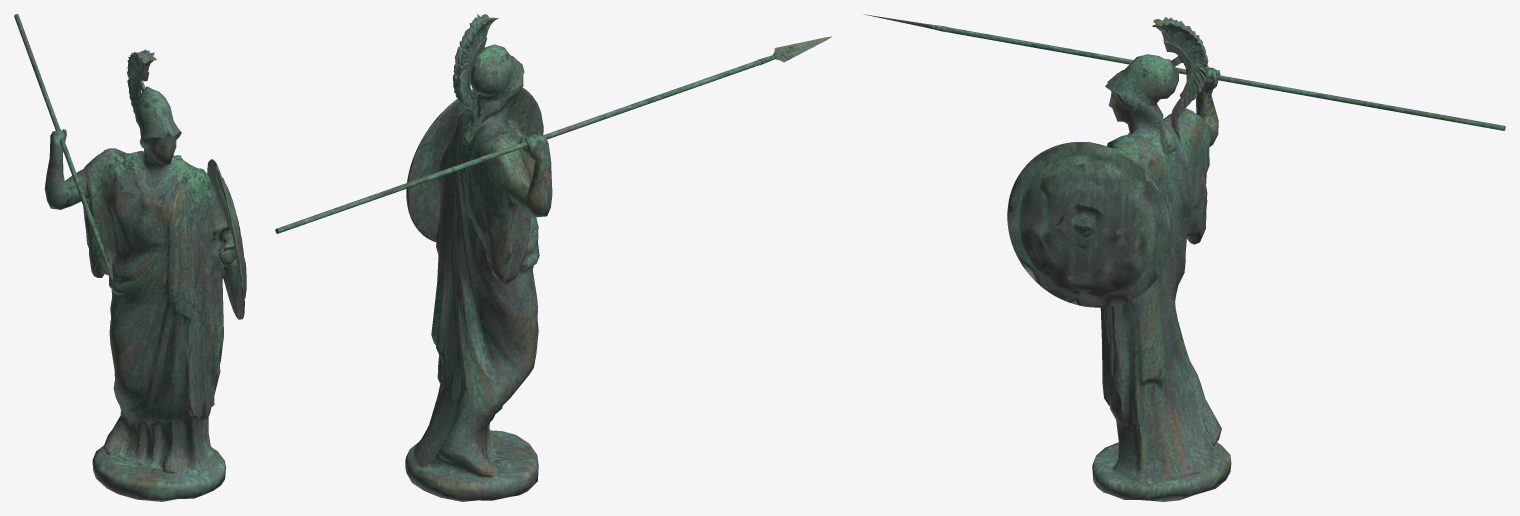
The model's file is PromachosLOD1.glb.
The picture shows the model from 3 angles, left to right: view 1: azimuth 30°, elevation 25°; view 2: azimuth 150°, elevation 25°; view 3: azimuth 270°, elevation 25°; orthographic projection. The views are drawn at different scales.
Visible parts, largest first — view 1: Original:Group6388, Shield_Low1; view 2: Original:Group6388, Shield_Low1; view 3: Original:Group6388, Shield_Low1.
Part boxes in pixels (left/top/right/bottom): Original:Group6388: left=14, top=14, right=235, bottom=501; Shield_Low1: left=207, top=159, right=246, bottom=319; Original:Group6388: left=275, top=14, right=831, bottom=501; Shield_Low1: left=406, top=87, right=543, bottom=241; Original:Group6388: left=862, top=14, right=1505, bottom=501; Shield_Low1: left=1007, top=142, right=1171, bottom=307.
Bounding box in the file's own units: 1.7 × 2.81 × 3.62.
Materials: 2 (2 with a texture image).
